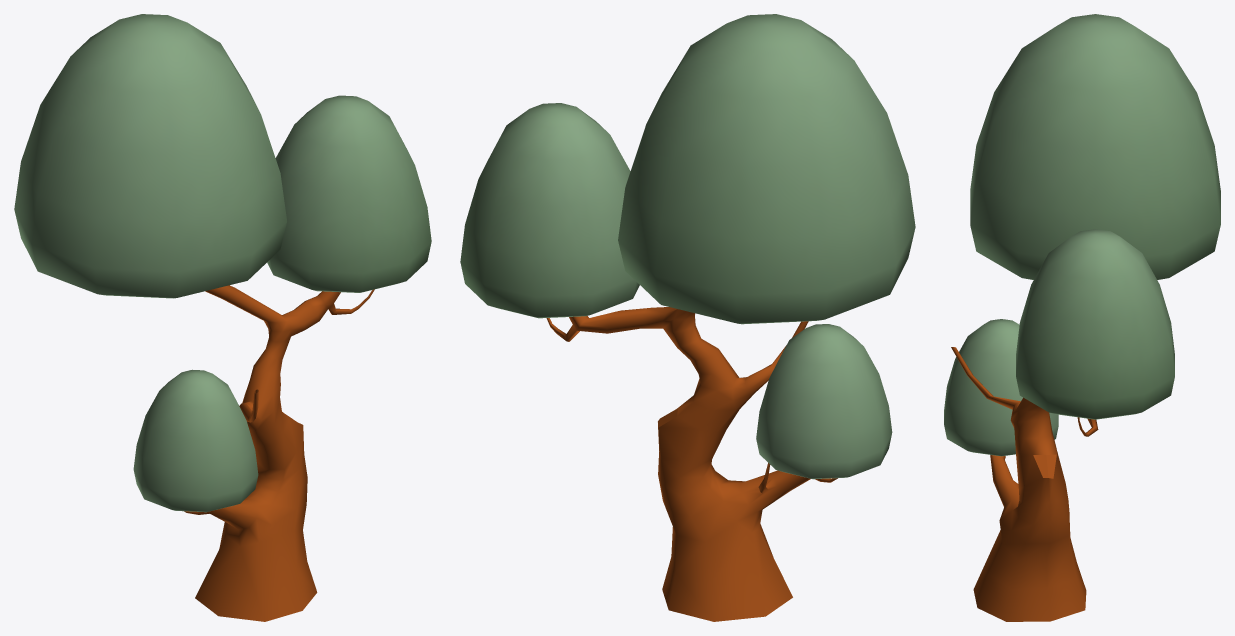
The model's file is SM_Tree_37.fbx.
3 renders of one model, left to right at view 1: azimuth 30°, elevation 25°; view 2: azimuth 150°, elevation 25°; view 3: azimuth 270°, elevation 25°, orthographic. The views are drawn at different scales.
Visible parts, largest first — view 1: SM_Tree_37; view 2: SM_Tree_37; view 3: SM_Tree_37.
Boxes of the visible parts, x1,y1,x2,y2 form: SM_Tree_37: (14,14,431,621); SM_Tree_37: (460,14,915,621); SM_Tree_37: (944,14,1220,621).
Size of the model in its own units: 906 by 1255 by 581.
